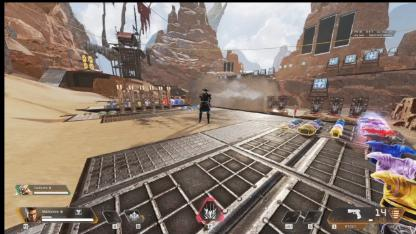Target: (198, 86, 210, 124)
